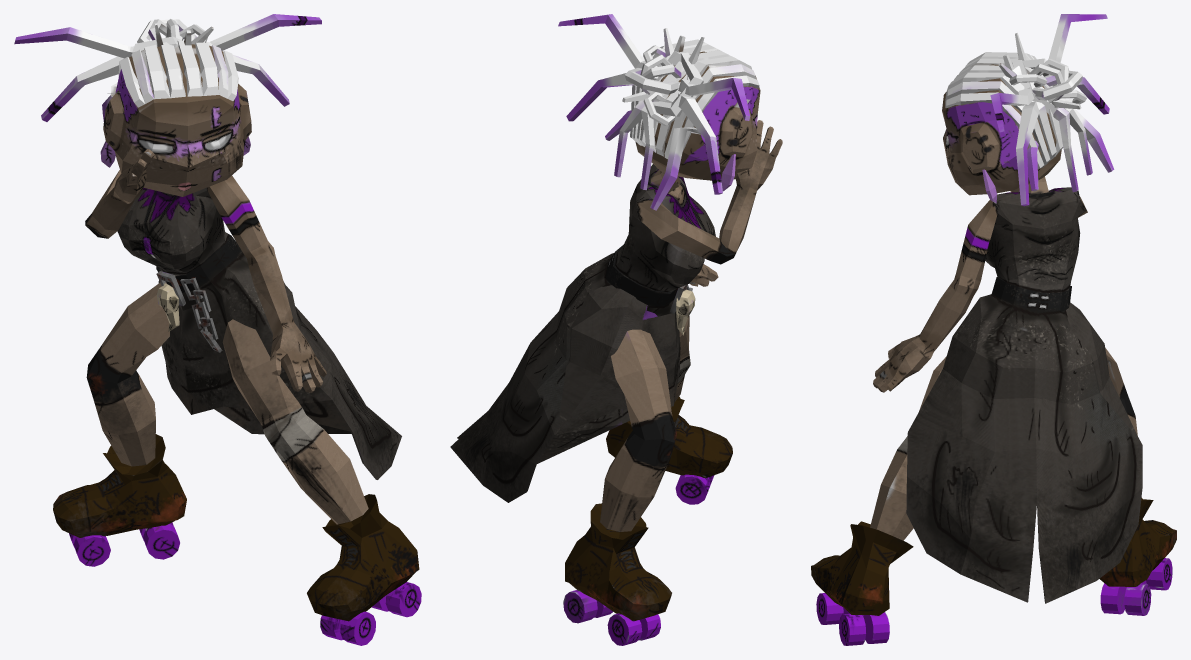
Rendered from bruja_000005.obj.
3 renders of one model, left to right at view 1: azimuth 30°, elevation 25°; view 2: azimuth 150°, elevation 25°; view 3: azimuth 270°, elevation 25°, orthographic. The views are drawn at different scales.
Visible parts, largest first — view 1: Bruja_Plane.001; view 2: Bruja_Plane.001; view 3: Bruja_Plane.001.
Part boxes in pixels (x1,y1,x2,y2): Bruja_Plane.001: (14,14,421,645); Bruja_Plane.001: (450,14,782,645); Bruja_Plane.001: (811,14,1176,645).
Size of the model in its own units: 9.62 by 15.48 by 9.26.
